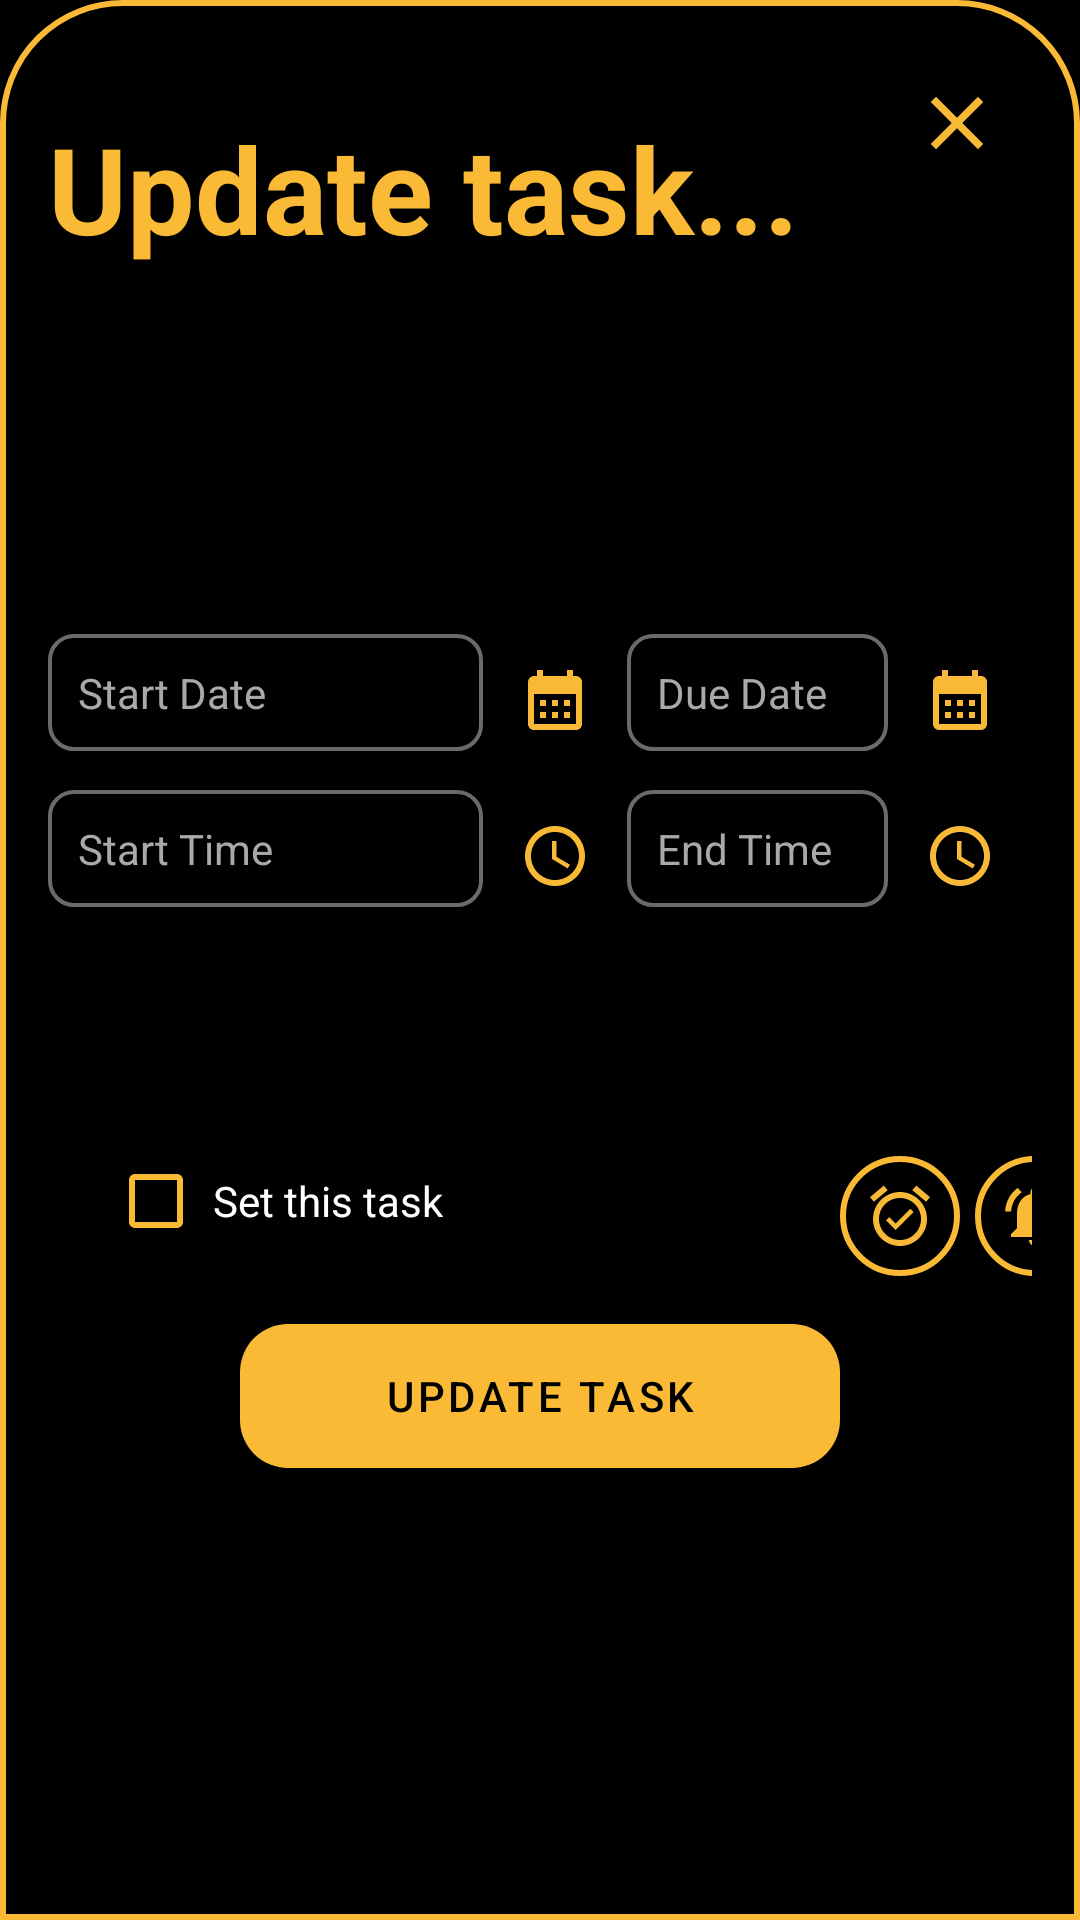

Icon click points for this 1080px x 1920px phone screenshot, format [x,y]:
access time: [555,856], [960,856]
alarm on: [900,1216]
calendar month: [555,700], [960,700]
close: [957,123]
